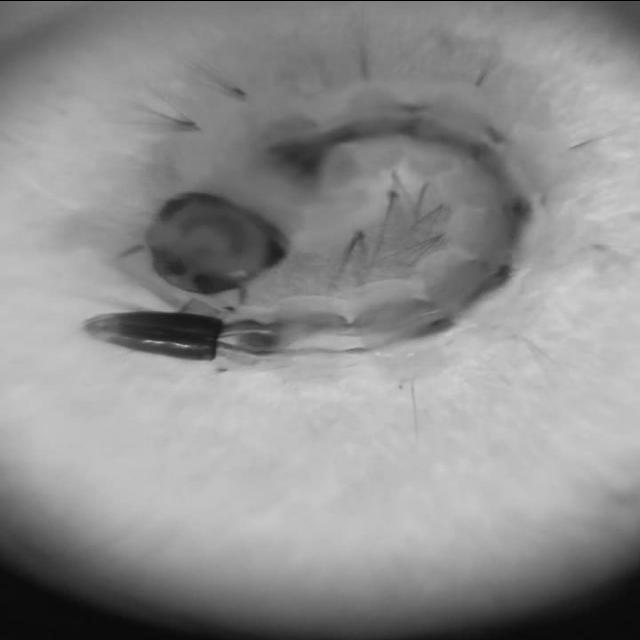larvas: (102, 75, 573, 383)
